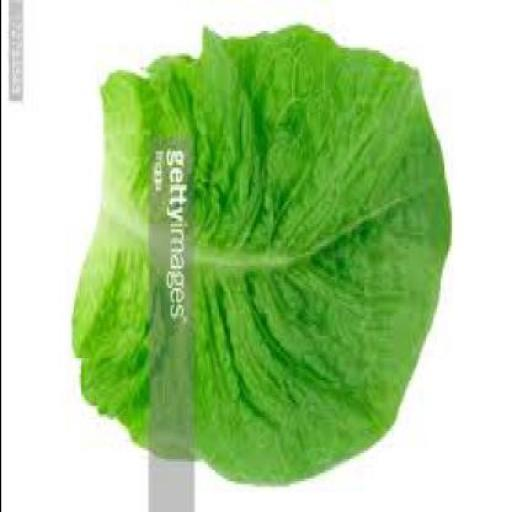biodegradable: (74, 26, 452, 484)
